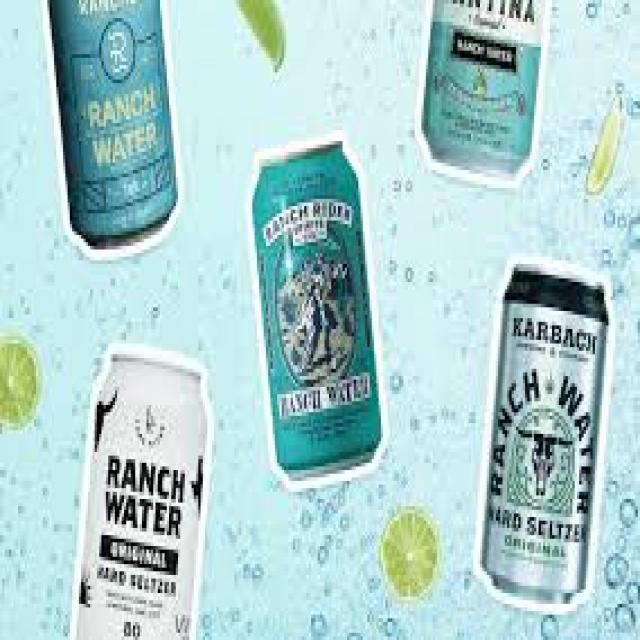Cans: (239, 123, 394, 506), (469, 242, 622, 618)
